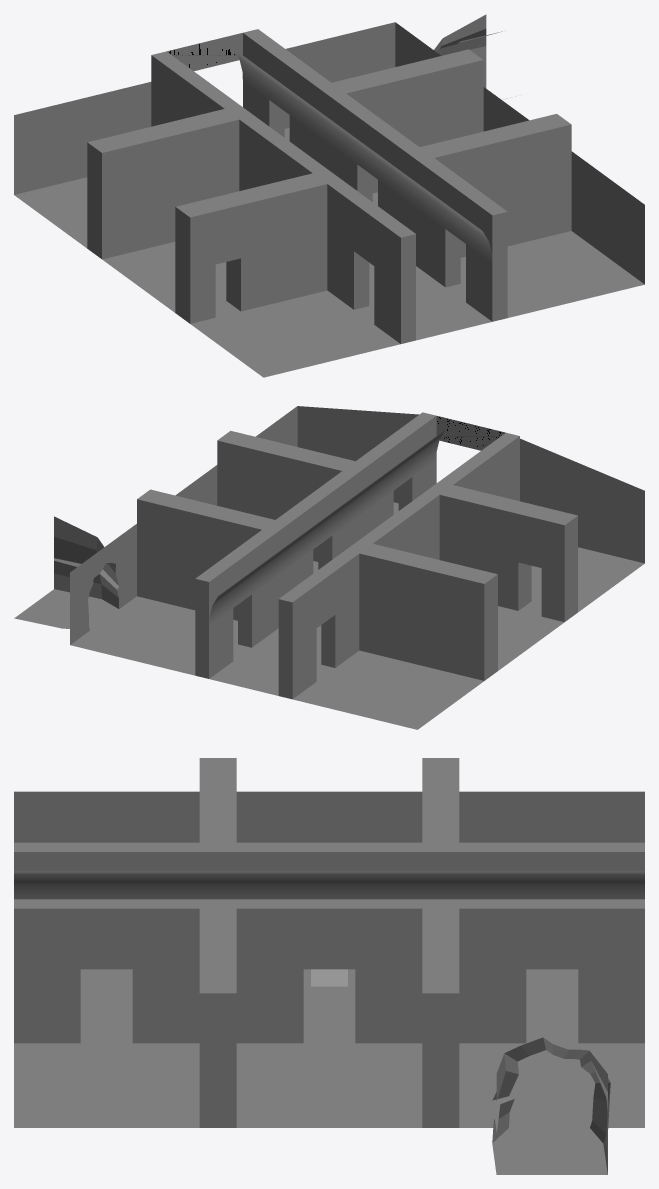
The model's file is prison_collider.gltf.
The picture shows the model from 3 angles, top to bottom: view 1: azimuth 30°, elevation 25°; view 2: azimuth 150°, elevation 25°; view 3: azimuth 270°, elevation 25°; orthographic projection. The views are drawn at different scales.
Parts seen in each view (by area): view 1: Walls; view 2: Walls; view 3: Walls, Cube.
Boxes of the visible parts, x1,y1,x2,y2 form: Walls: (14, 14, 644, 377); Walls: (14, 406, 644, 729); Walls: (14, 758, 644, 1174); Cube: (311, 969, 347, 986).
Bounding box in the file's own units: 18 × 4 × 17.
1 material, 1 textured.
